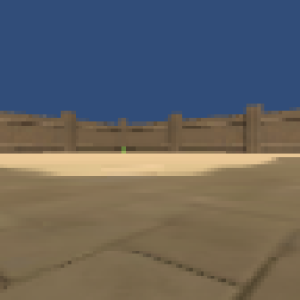goodGoal: (119, 145, 127, 153)
